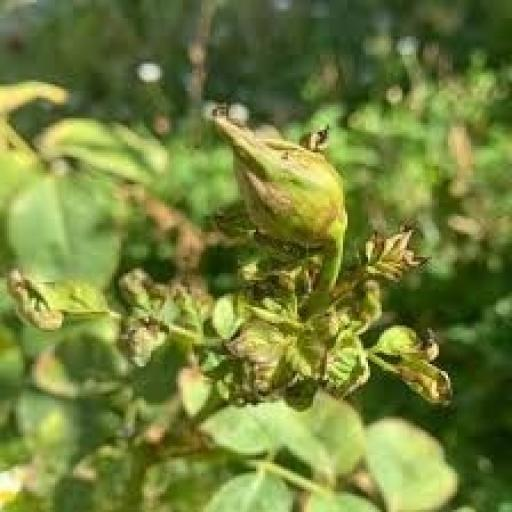thrip: (119, 269, 208, 364), (7, 271, 112, 328), (373, 325, 446, 400), (226, 319, 295, 398), (347, 228, 425, 284)
